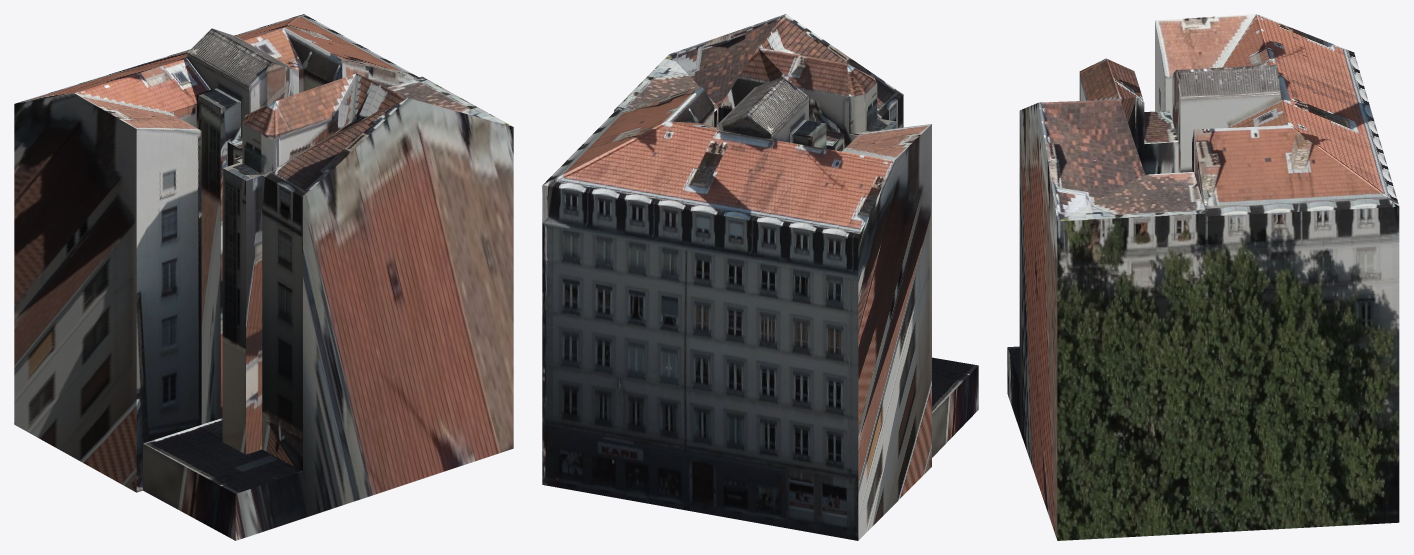
3 views of the same model, side by side, from view 1: azimuth 30°, elevation 25°; view 2: azimuth 150°, elevation 25°; view 3: azimuth 270°, elevation 25° (orthographic). The views are drawn at different scales.
Parts seen in each view (by area): view 1: Z_UP; view 2: Z_UP; view 3: Z_UP.
Part boxes in pixels (box(x1,y1,x2,y2)): Z_UP: box(14, 14, 513, 540); Z_UP: box(542, 14, 978, 540); Z_UP: box(1007, 14, 1399, 540).
Bounding box in the file's own units: 27 × 28.46 × 26.36.
2 materials, 1 textured.
